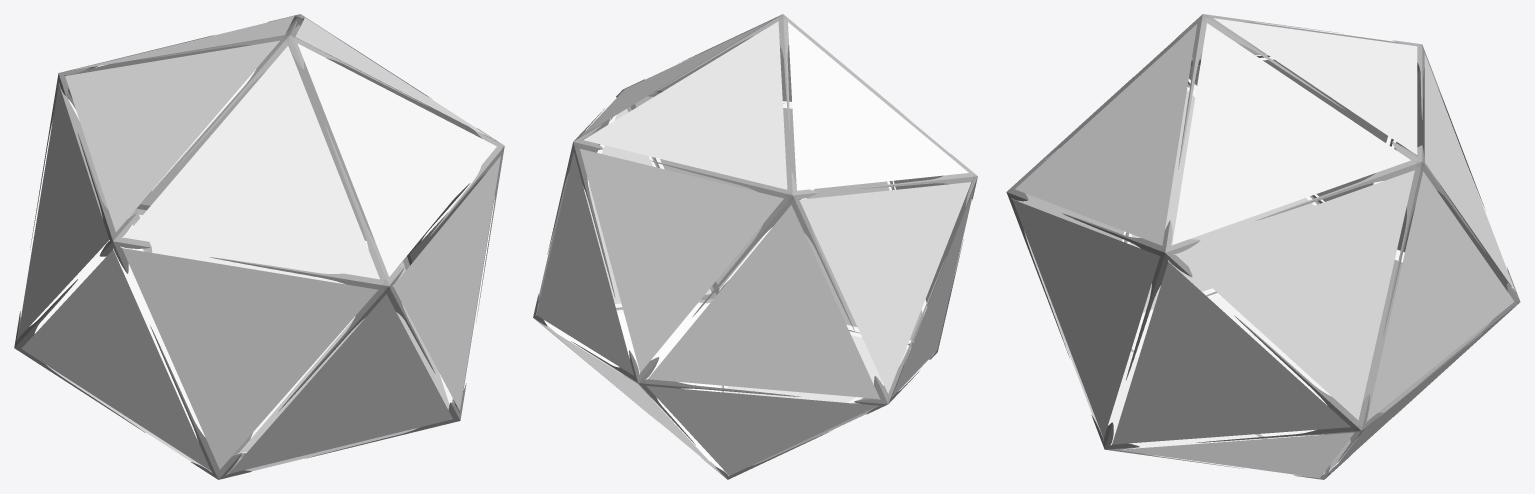
The picture shows the model from 3 angles, left to right: view 1: azimuth 30°, elevation 25°; view 2: azimuth 150°, elevation 25°; view 3: azimuth 270°, elevation 25°; orthographic projection. The views are drawn at different scales.
Parts seen in each view (by area): view 1: Hedra001; view 2: Hedra001; view 3: Hedra001.
Boxes of the visible parts, <box> form: Hedra001: <box>14,14,504,479</box>; Hedra001: <box>533,14,977,479</box>; Hedra001: <box>1006,14,1520,479</box>.
Size of the model in its own units: 2.04 by 2.34 by 2.34.
Materials: 2 (2 with a texture image).
